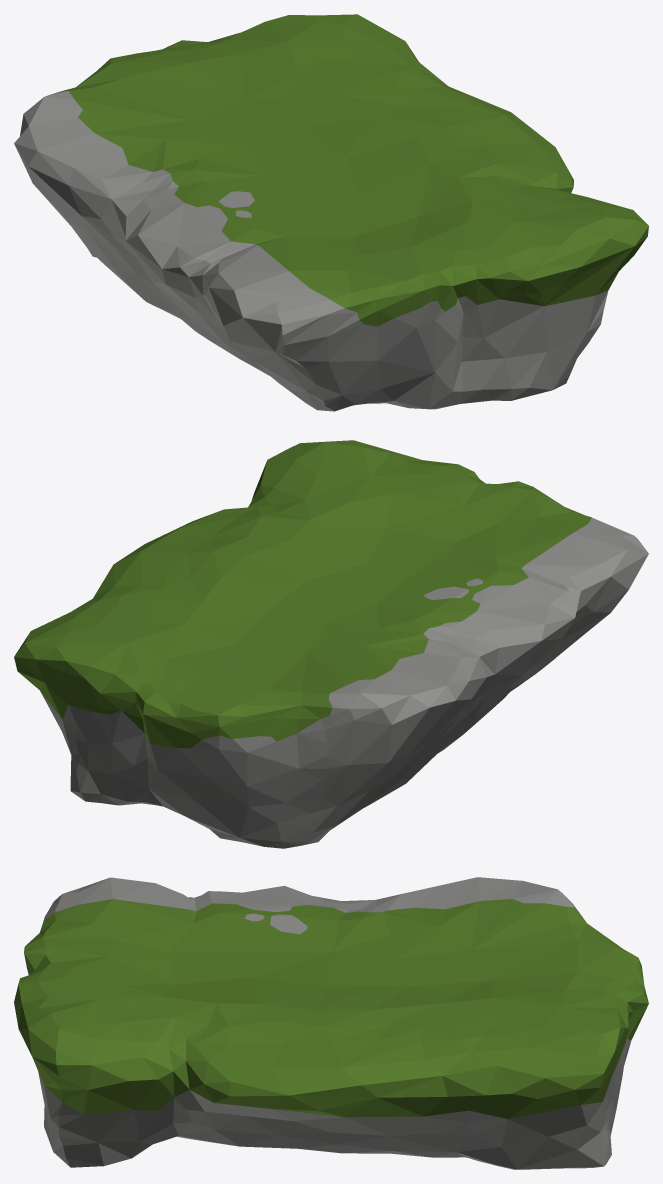
The model's file is Cavern_FloorGrass_Border_Edge-02.fbx.
The picture shows the model from 3 angles, top to bottom: view 1: azimuth 30°, elevation 25°; view 2: azimuth 150°, elevation 25°; view 3: azimuth 270°, elevation 25°; orthographic projection. The views are drawn at different scales.
Visible parts, largest first — view 1: Cavern_FloorGrass_Border_Edge-02; view 2: Cavern_FloorGrass_Border_Edge-02; view 3: Cavern_FloorGrass_Border_Edge-02.
Part boxes in pixels (bbox=[...]): Cavern_FloorGrass_Border_Edge-02: bbox=[14, 14, 648, 411]; Cavern_FloorGrass_Border_Edge-02: bbox=[14, 440, 648, 848]; Cavern_FloorGrass_Border_Edge-02: bbox=[14, 877, 648, 1169].
Bounding box in the file's own units: 1329 × 519 × 1799.
1 material, 1 textured.
